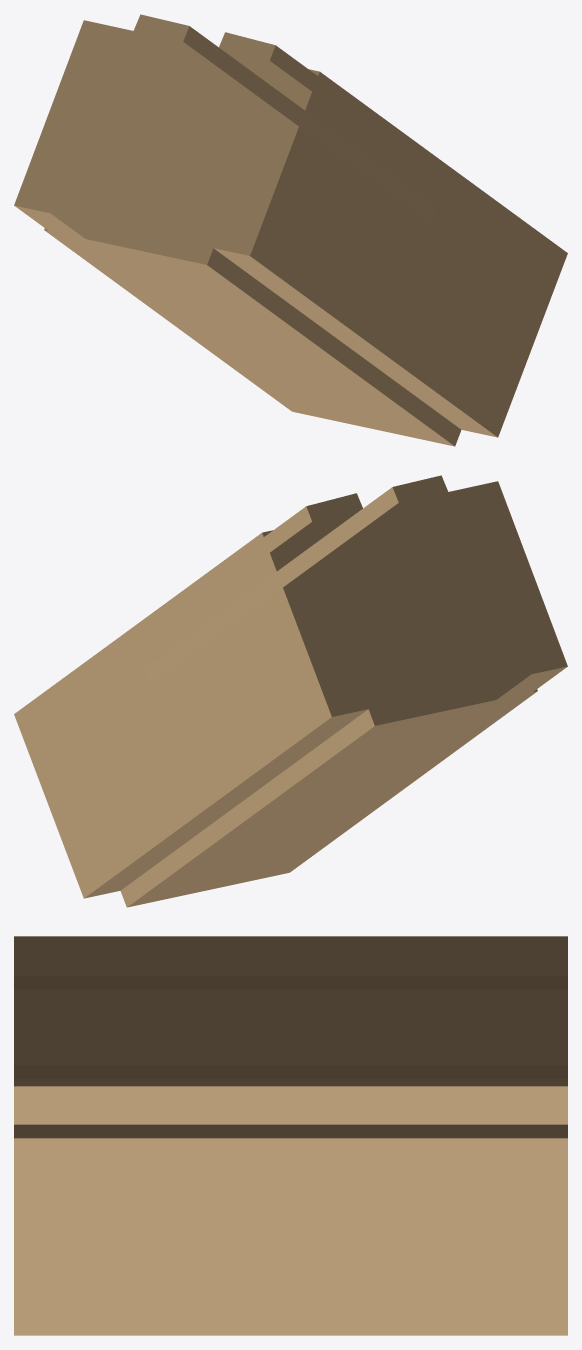
The picture shows the model from 3 angles, top to bottom: view 1: azimuth 30°, elevation 25°; view 2: azimuth 150°, elevation 25°; view 3: azimuth 270°, elevation 25°; orthographic projection. The views are drawn at different scales.
Parts seen in each view (by area): view 1: 0_3_1_3_3_3_0_3_3_3; view 2: 0_3_1_3_3_3_0_3_3_3; view 3: 0_3_1_3_3_3_0_3_3_3.
Boxes of the visible parts, x1,y1,x2,y2 form: 0_3_1_3_3_3_0_3_3_3: [14, 14, 567, 446]; 0_3_1_3_3_3_0_3_3_3: [14, 475, 567, 907]; 0_3_1_3_3_3_0_3_3_3: [14, 936, 567, 1335].
Size of the model in its own units: 19.22 by 16.6 by 27.
